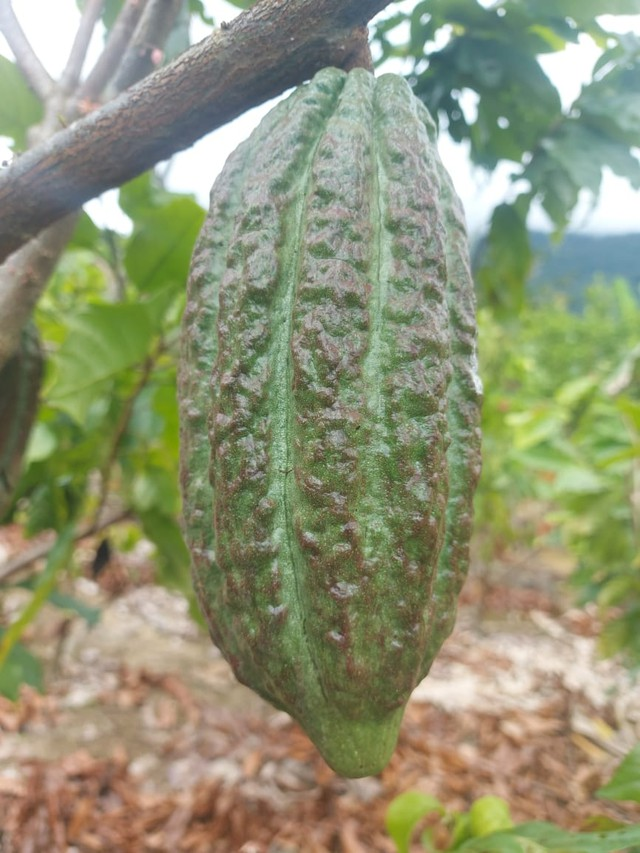Health: (170, 50, 497, 799)
